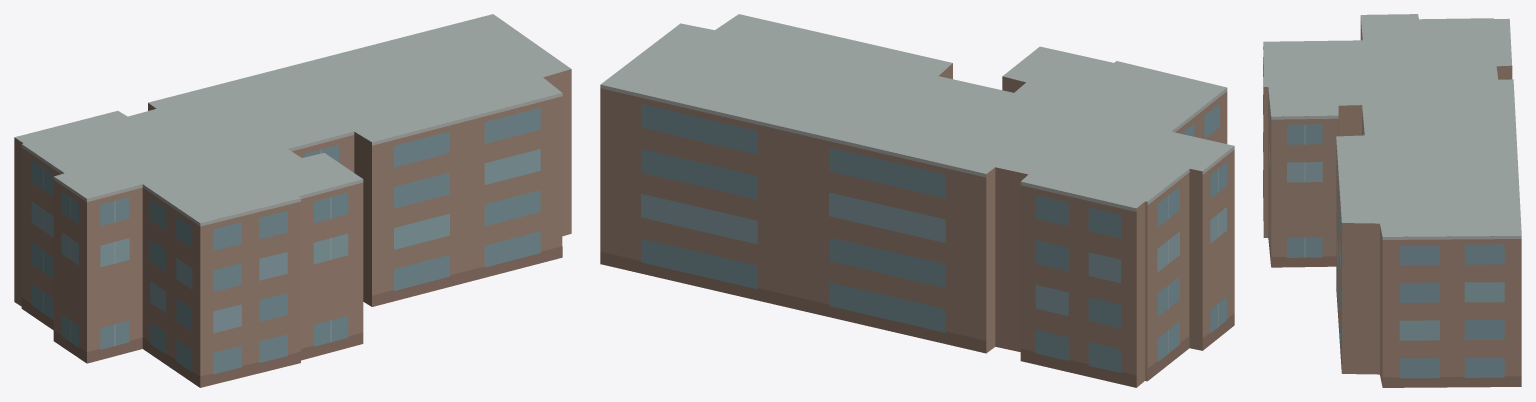
File: survey-upis-33035199.glb
3 renders of one model, left to right at view 1: azimuth 30°, elevation 25°; view 2: azimuth 150°, elevation 25°; view 3: azimuth 270°, elevation 25°, orthographic. The views are drawn at different scales.
Parts seen in each view (by area): view 1: survey-upis-33035199.tmp; view 2: survey-upis-33035199.tmp; view 3: survey-upis-33035199.tmp.
Part boxes in pixels (x1,y1,x2,y2): survey-upis-33035199.tmp: (14, 14, 571, 387); survey-upis-33035199.tmp: (600, 14, 1234, 387); survey-upis-33035199.tmp: (1263, 14, 1521, 387).
Size of the model in its own units: 38.33 by 12.1 by 18.8.
